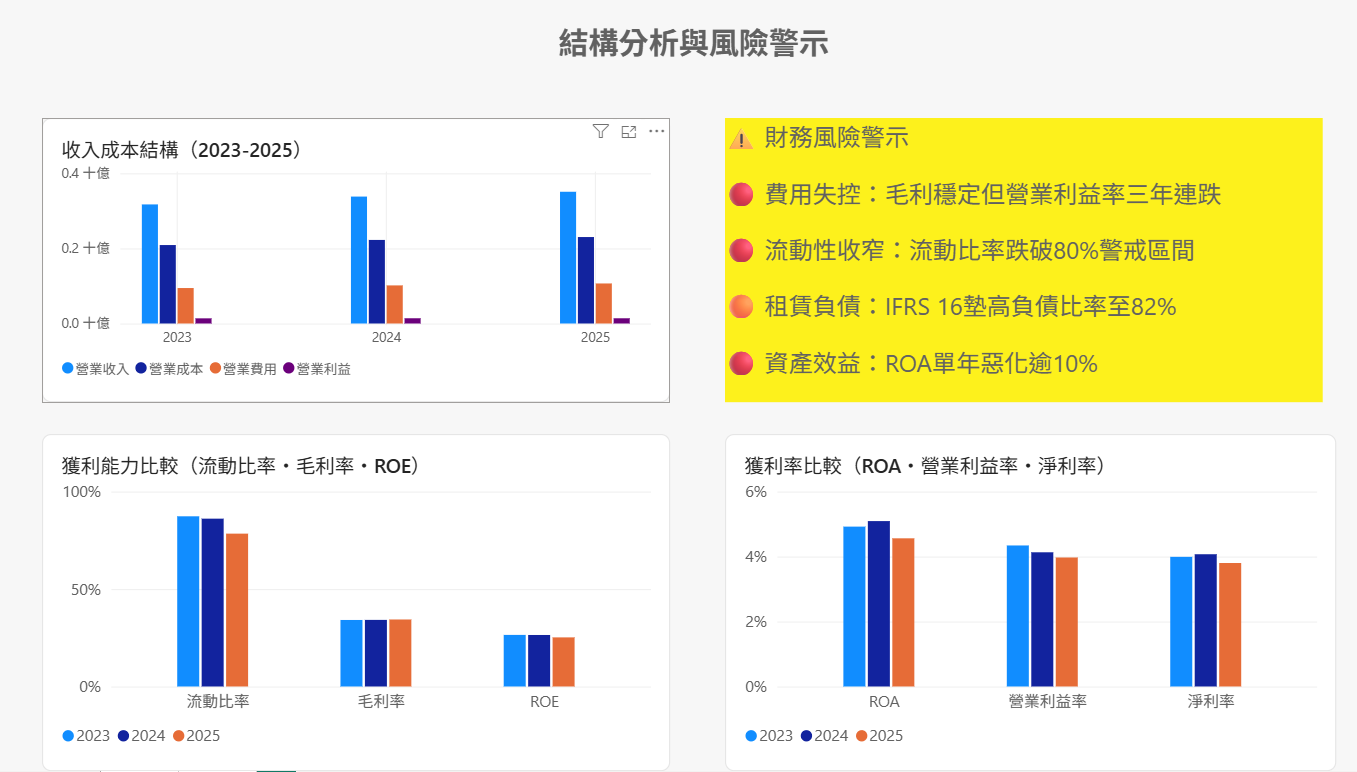

The page's visual inventory and layout, read from the dashboard file:
{"tool":"powerbi","page":{"name":"第 2 頁","canvas":[1280,720],"ordinal":1},"visuals":[{"type":"clusteredColumnChart","title":"收入成本結構（2023-2025）","fields":{"Category":["income_statement.年度"],"Y":["Measure.營業收入","Measure.營業成本","Measure.營業費用","Measure.營業利益"]},"box":[57.8,141.1,556.7,252.2],"z":0},{"type":"clusteredColumnChart","title":"獲利能力比較（流動比率・毛利率・ROE）","fields":{"Category":["financial_ratios.比率名稱"],"Series":["financial_ratios.年度"],"Y":["Measure.選定比率數值"]},"box":[57.8,421.1,556.7,298.9],"z":1},{"type":"clusteredColumnChart","title":"獲利率比較（ROA・營業利益率・淨利率）","fields":{"Category":["financial_ratios.比率名稱"],"Series":["financial_ratios.年度"],"Y":["Measure.選定比率數值"]},"box":[663.3,421.1,542.2,298.9],"z":2},{"type":"textbox","box":[663.3,141.1,530,252.2],"z":3},{"type":"textbox","box":[260,53.3,758.9,87.8],"z":5}]}

Visuals, with their boxes in screenshot pixels (x1, y1, x2, y2), scaled from the page's 1280x720 canvas onto the 1357x772 screenshot:
"收入成本結構（2023-2025）" clusteredColumnChart: [61,151,651,422]
"獲利能力比較（流動比率・毛利率・ROE）" clusteredColumnChart: [61,452,651,771]
"獲利率比較（ROA・營業利益率・淨利率）" clusteredColumnChart: [703,452,1278,771]
textbox: [703,151,1265,422]
textbox: [276,57,1080,151]
